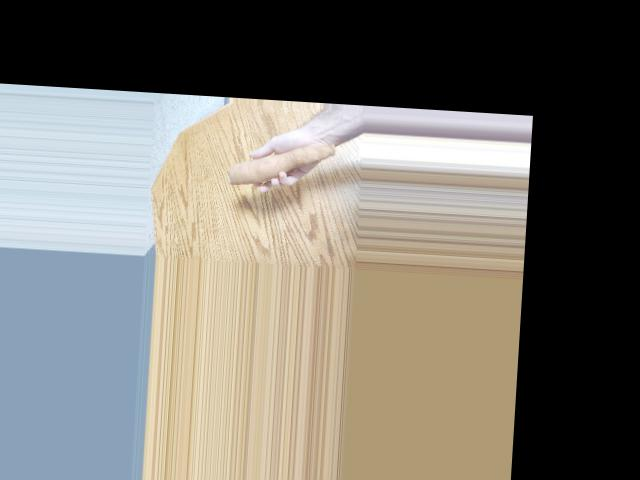sweet_potato: (227, 135, 333, 193)
